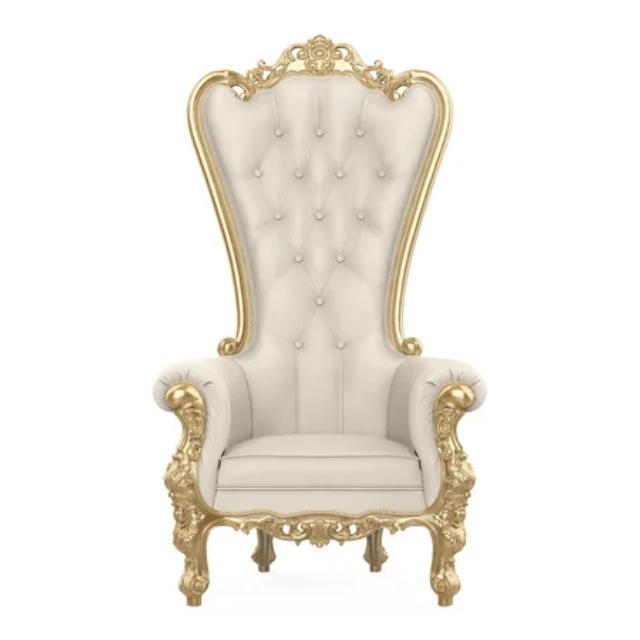obstacle: (130, 28, 484, 624)
